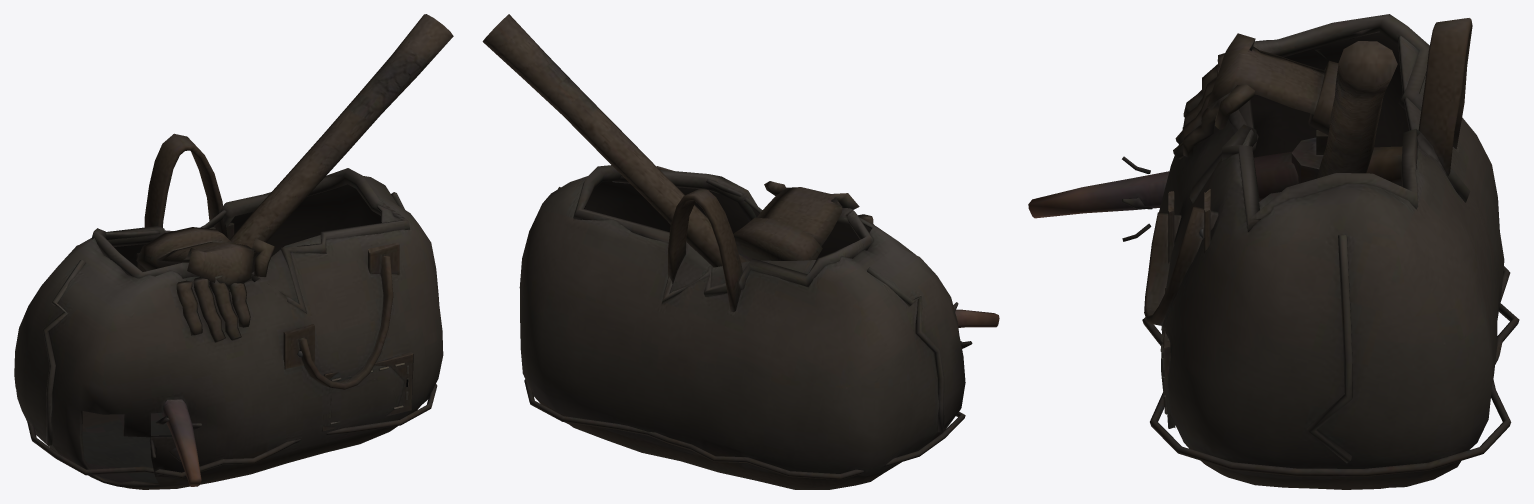
File: b4p_toolbag_garud.glb
3 renders of one model, left to right at view 1: azimuth 30°, elevation 25°; view 2: azimuth 150°, elevation 25°; view 3: azimuth 270°, elevation 25°, orthographic. The views are drawn at different scales.
Visible parts, largest first — view 1: b4p_toolbag_garud; view 2: b4p_toolbag_garud; view 3: b4p_toolbag_garud.
Boxes of the visible parts, <box> form: b4p_toolbag_garud: <box>14,14,453,489</box>; b4p_toolbag_garud: <box>482,14,999,489</box>; b4p_toolbag_garud: <box>1028,14,1519,489</box>.
Size of the model in its own units: 0.5619 by 0.4704 by 0.405.
1 material, 1 textured.
